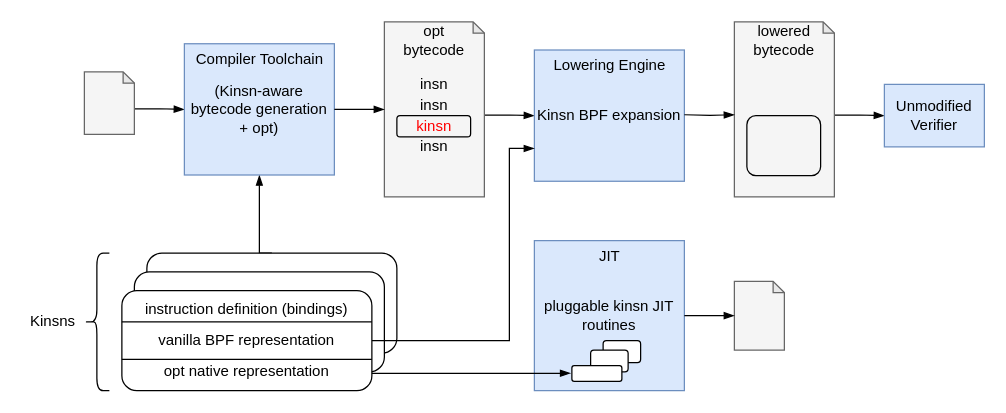
This 1006x413 diagram has some shape labels left out. The shapes that lost their labels are listed below. From the top down, each one's centre as x and y in pixels, then its label:
At [108,102]: "code".
At [783,145]: "insn insn insn insn insn insn".
At [758,315]: "opt native code".
